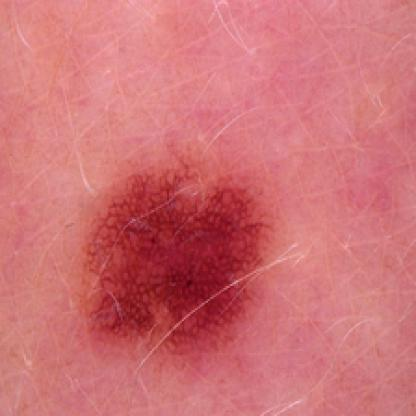benign: (74, 175, 270, 338)
